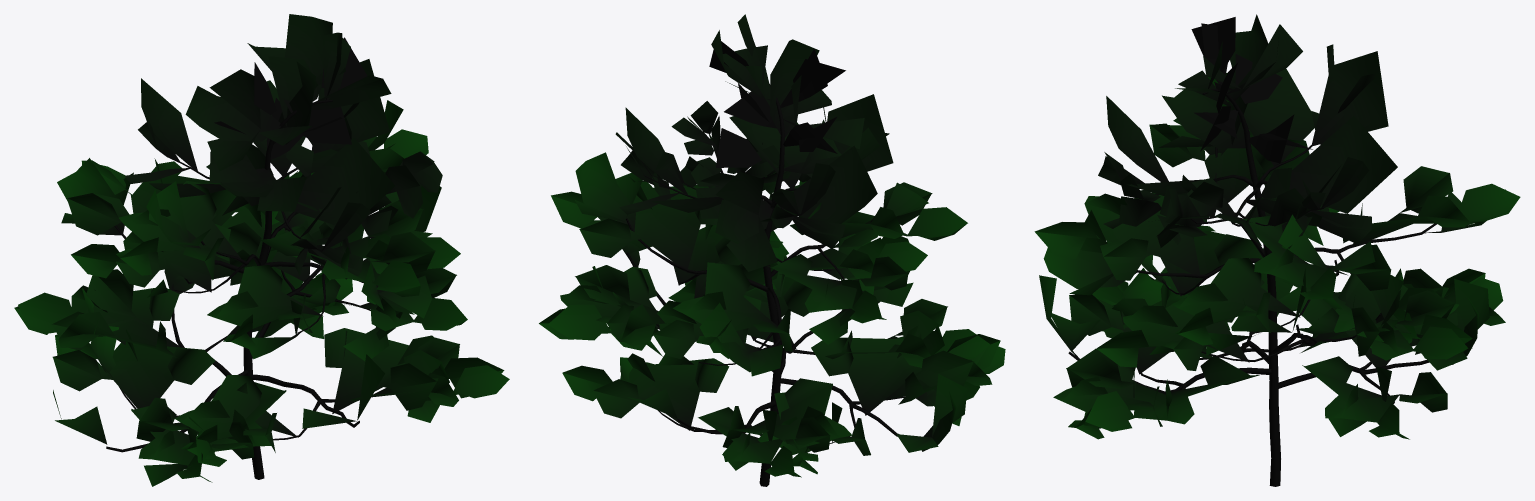
File: Pine_beach_small_04.fbx
3 views of the same model, side by side, from view 1: azimuth 30°, elevation 25°; view 2: azimuth 150°, elevation 25°; view 3: azimuth 270°, elevation 25° (orthographic). The views are drawn at different scales.
Parts seen in each view (by area): view 1: pine_beach_small_04_LOD0; view 2: pine_beach_small_04_LOD0; view 3: pine_beach_small_04_LOD0.
Boxes of the visible parts, x1=… form: pine_beach_small_04_LOD0: x1=14, y1=14, x2=509, y2=486; pine_beach_small_04_LOD0: x1=539, y1=14, x2=1005, y2=486; pine_beach_small_04_LOD0: x1=1034, y1=14, x2=1520, y2=486.
Size of what is drawn, in the model's own units: 227 by 247 by 229.
